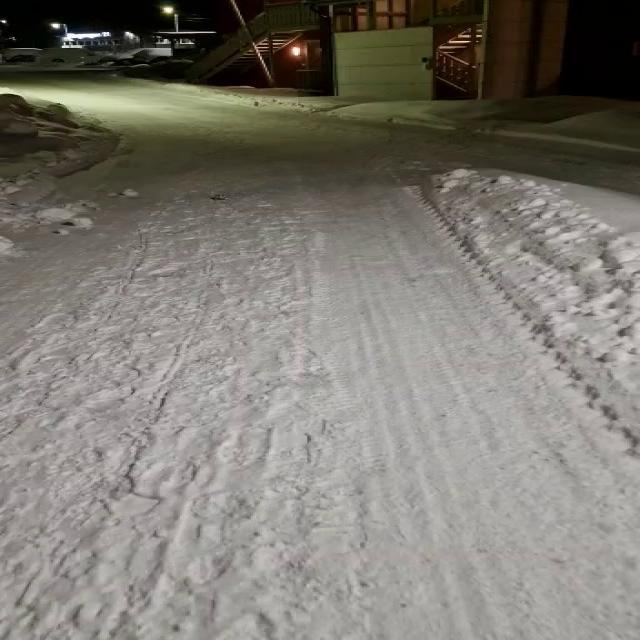path: (2, 76, 638, 640)
